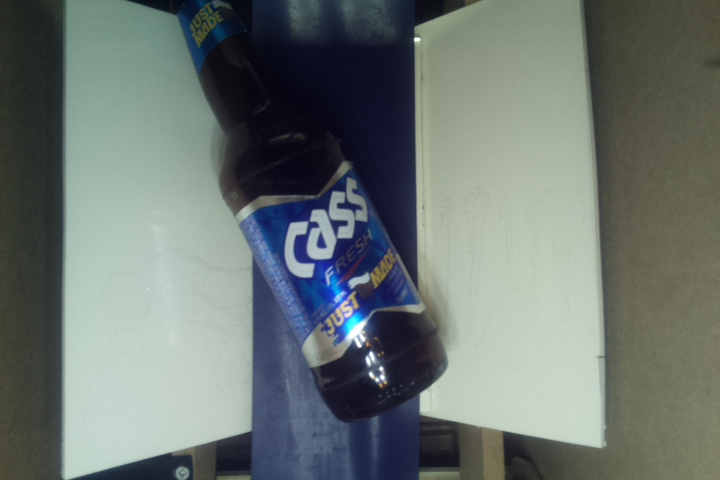makju: (166, 1, 450, 421)
